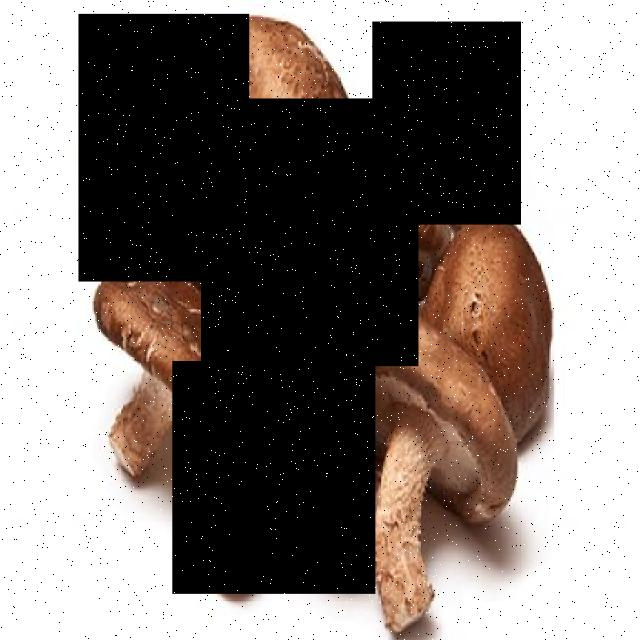Mushroom: (200, 99, 418, 366), (172, 360, 376, 594), (78, 14, 250, 281), (372, 22, 520, 226)
